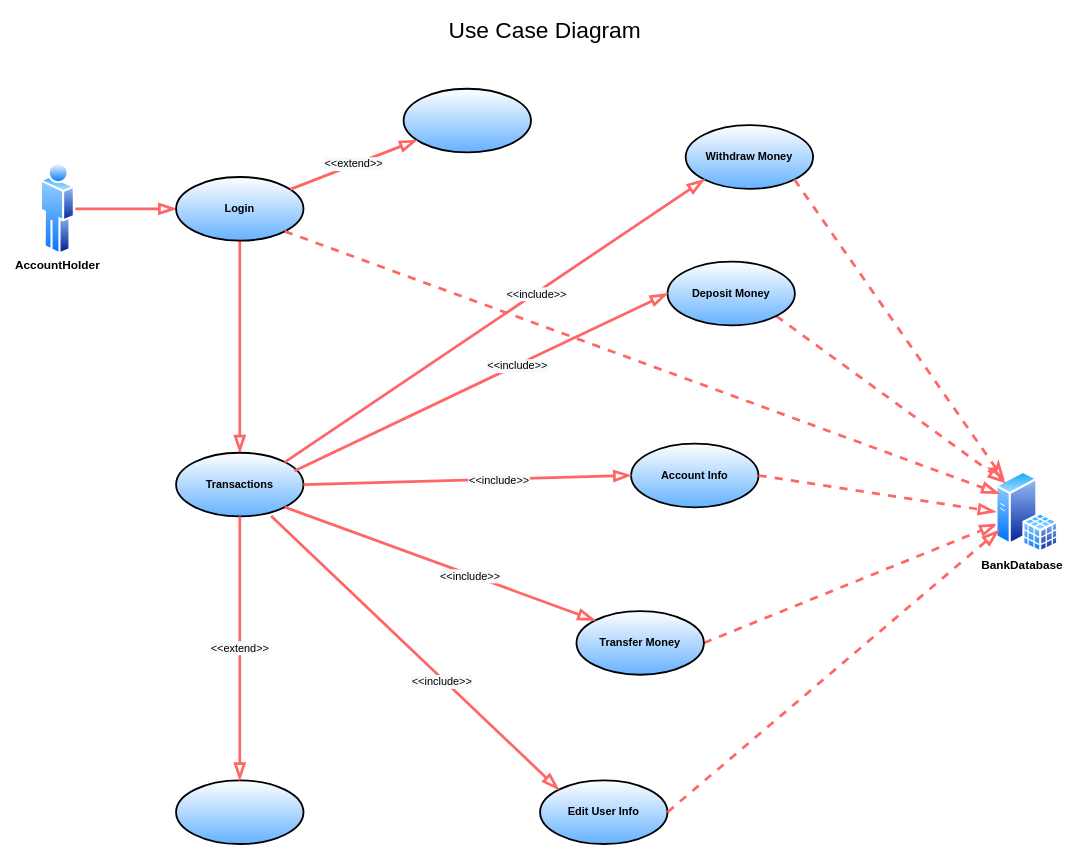
Image size: 1079x860. Some labels were removed from this diagram. Each missing label, with the box of its shape:
Invalid Entry: (402, 87, 531, 153)
Log Out: (175, 779, 304, 844)
